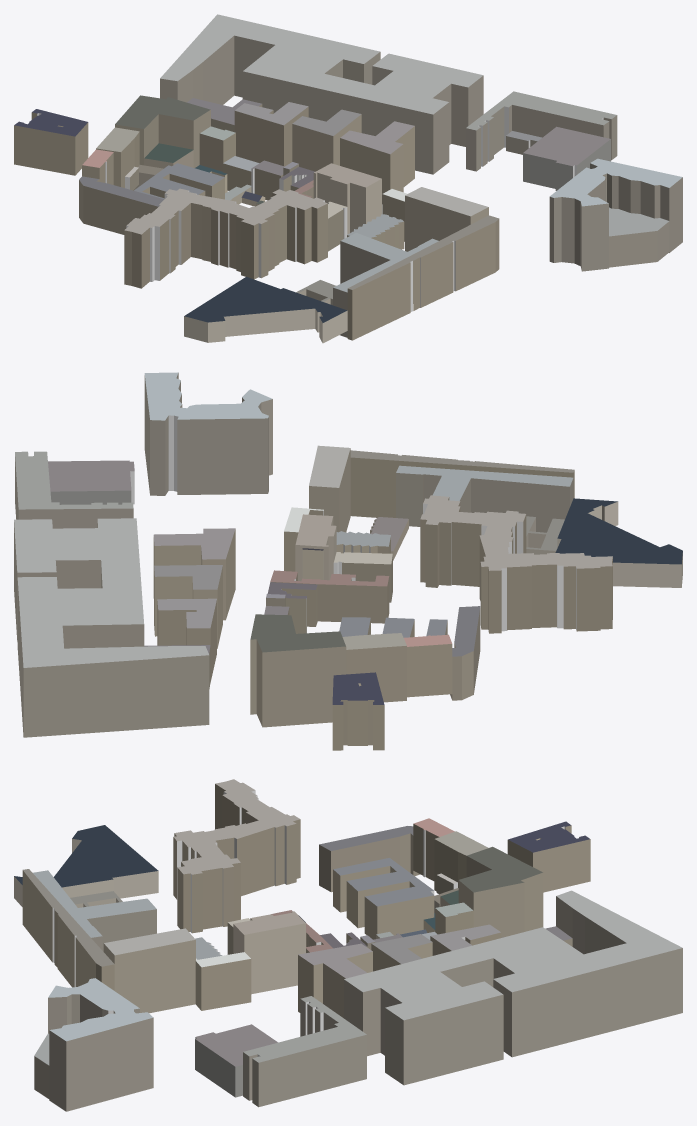
3 renders of one model, top to bottom at view 1: azimuth 30°, elevation 25°; view 2: azimuth 150°, elevation 25°; view 3: azimuth 270°, elevation 25°, orthographic. The views are drawn at different scales.
Parts seen in each view (by area): view 1: tuile; view 2: tuile; view 3: tuile.
Boxes of the visible parts, x1,y1,x2,y2 form: tuile: [14, 14, 682, 343]; tuile: [14, 372, 682, 750]; tuile: [14, 779, 682, 1111].
Bounding box in the file's own units: 315 × 45.33 × 335.
